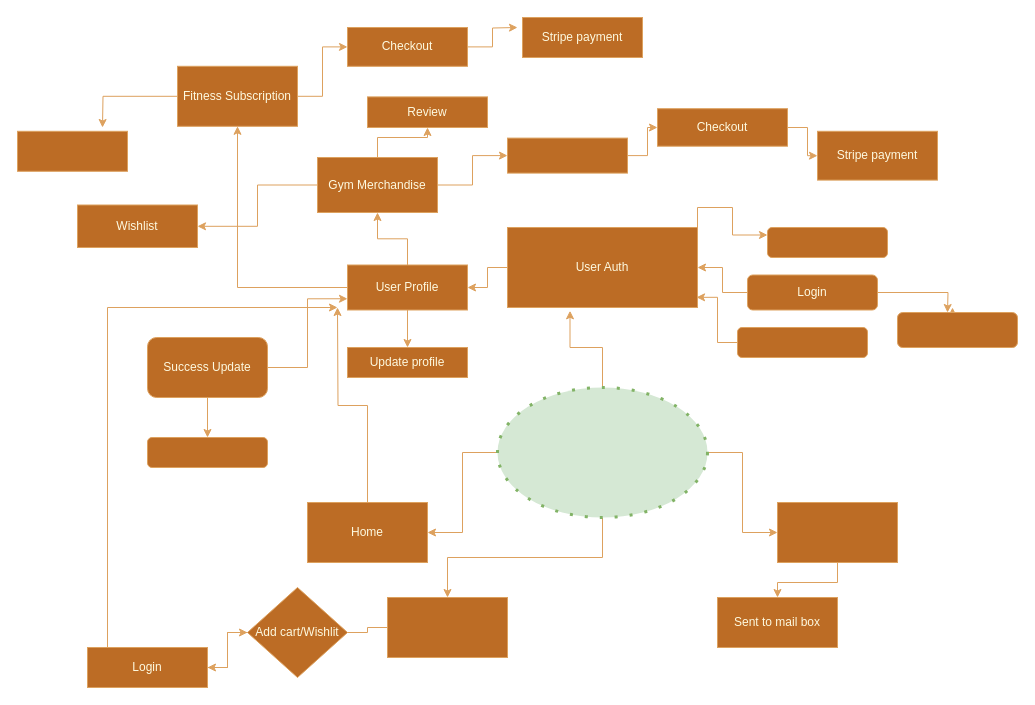
This 1035x705 diagram has some shape labels left out. Each missing label, with the centre of its shape:
"Add to cart" belongs at pixel 567 155.
"Contact" belongs at pixel 837 532.
"Fitster" belongs at pixel 602 452.
"Fotgot pass" belongs at pixel 957 330.
"Logout" belongs at pixel 827 242.
"Post" belongs at pixel 207 452.
"Shop" belongs at pixel 447 627.
"Signup" belongs at pixel 802 342.
"User Review" belongs at pixel 72 150.
